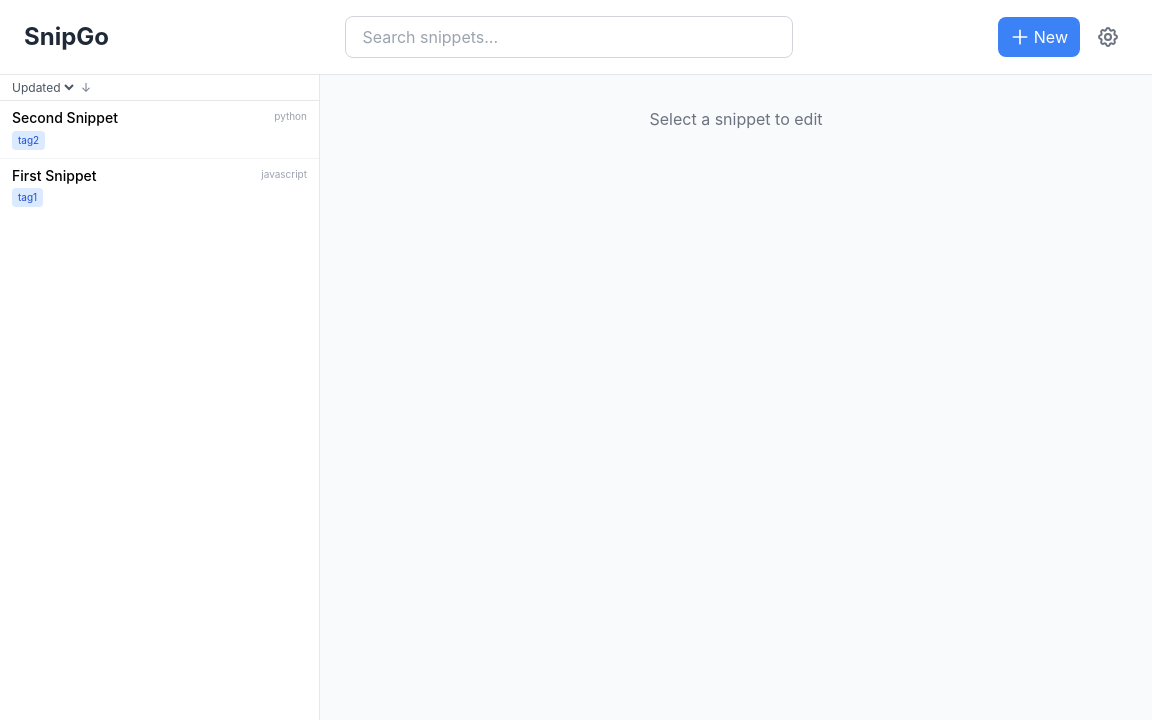
Scenario: App › 외부 변경 (Hot Reload) › 수정 중이 아닌 열린 snippet은 디스크 내용으로 갱신한다
Click the heading "First Snippet". click: x=54, y=175
box: [12, 166, 96, 184]
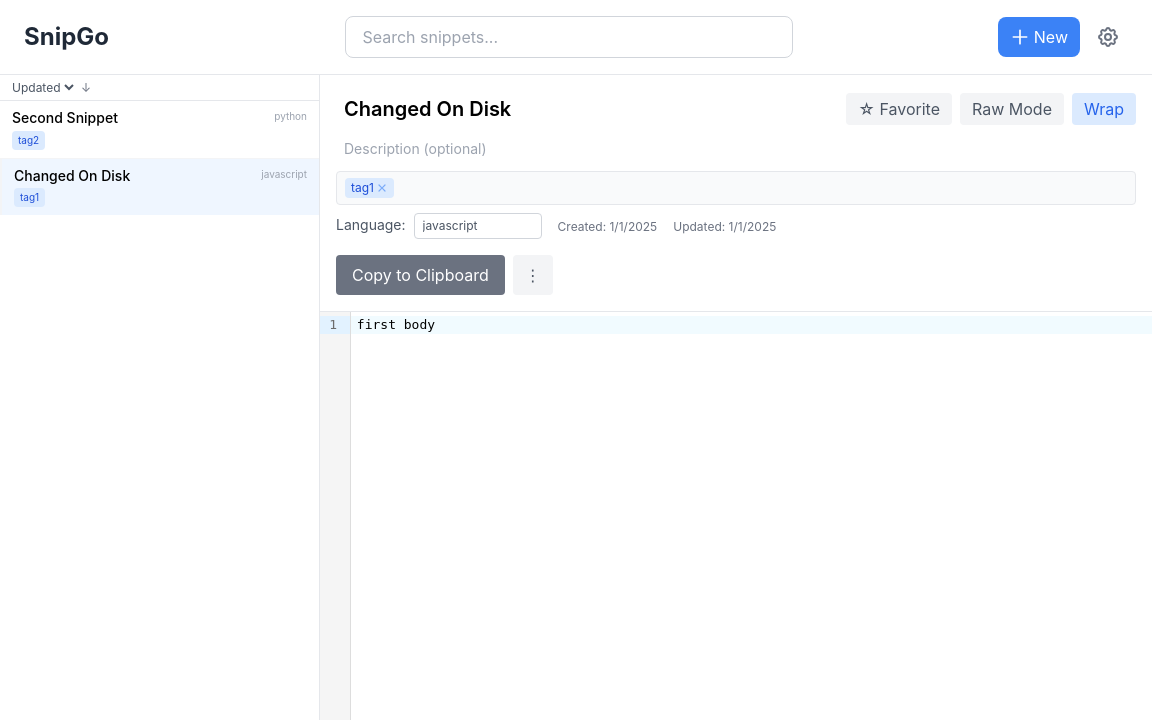
Expected: the 1st field showing "Changed On Disk" is shown, [336, 91, 830, 127]
